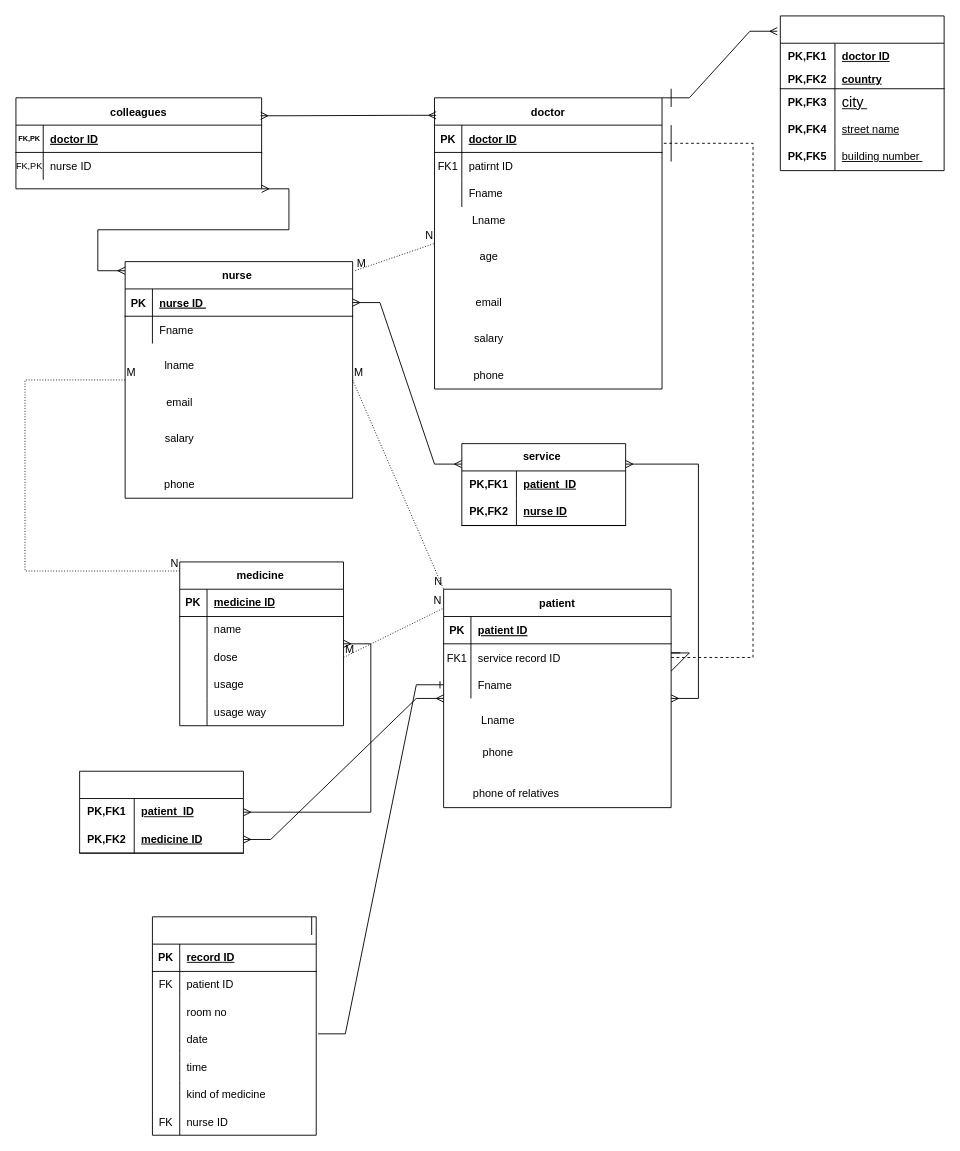
The diagram is 960 pixels wide and 1151 high, and some of its shapes have lost their labels. Each missing label, with the box of its shape:
doctor address: (779, 15, 944, 171)
service record: (152, 916, 316, 1135)
treatment: (79, 770, 243, 853)
